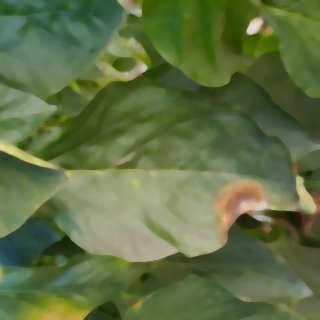graymold: (208, 177, 267, 233)
